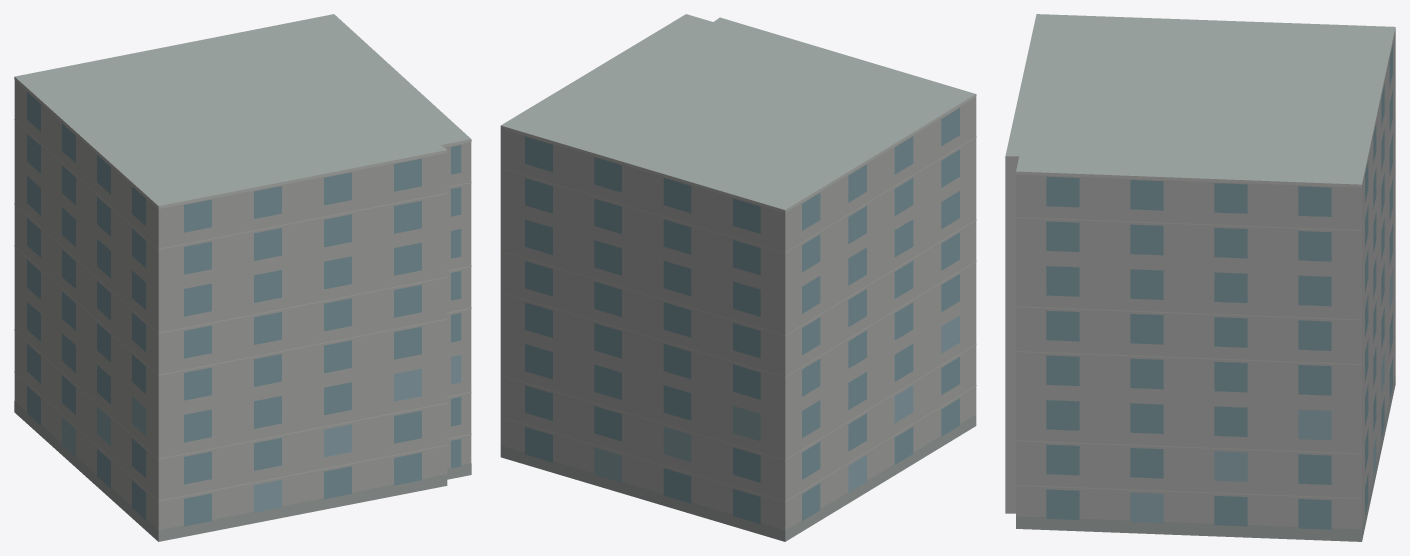
The model's file is survey-upis-32551124.glb.
3 views of the same model, side by side, from view 1: azimuth 30°, elevation 25°; view 2: azimuth 150°, elevation 25°; view 3: azimuth 270°, elevation 25° (orthographic). The views are drawn at different scales.
Parts seen in each view (by area): view 1: survey-upis-32551124.tmp; view 2: survey-upis-32551124.tmp; view 3: survey-upis-32551124.tmp.
Boxes of the visible parts, x1,y1,x2,y2 form: survey-upis-32551124.tmp: (14,14,471,541); survey-upis-32551124.tmp: (500,14,976,541); survey-upis-32551124.tmp: (1005,14,1395,541).
Bounding box in the file's own units: 28.39 × 27.7 × 27.45.
